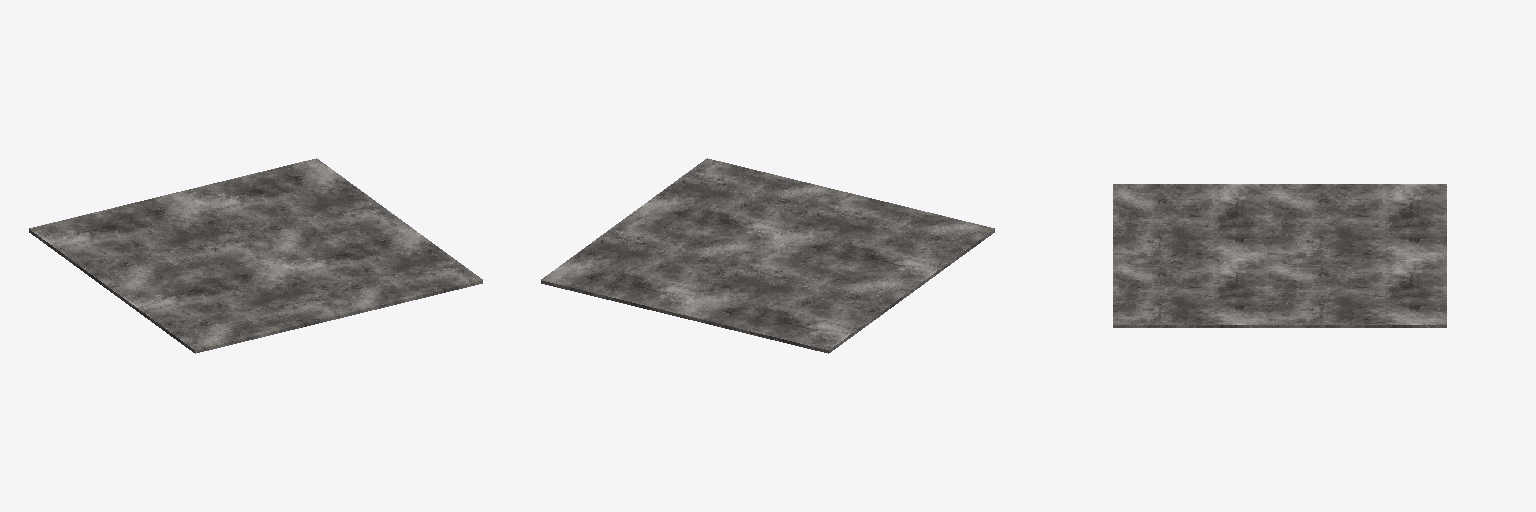
3 renders of one model, left to right at view 1: azimuth 30°, elevation 25°; view 2: azimuth 150°, elevation 25°; view 3: azimuth 270°, elevation 25°, orthographic.
Parts seen in each view (by area): view 1: 7_Pavement-B-C; view 2: 7_Pavement-B-C; view 3: 7_Pavement-B-C.
Part boxes in pixels (bbox=[...]): 7_Pavement-B-C: bbox=[29, 158, 482, 353]; 7_Pavement-B-C: bbox=[541, 158, 994, 353]; 7_Pavement-B-C: bbox=[1113, 184, 1446, 327].
Size of the model in its own units: 1.24 by 0.0135 by 1.24.
1 materials, 1 textured.